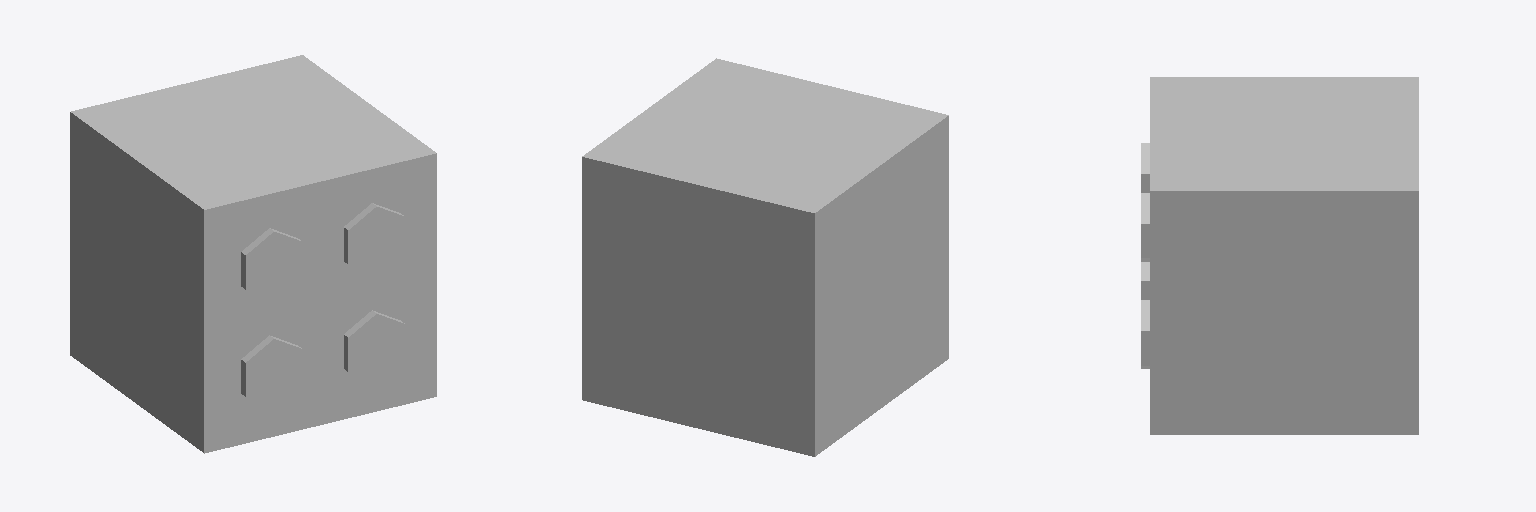
File: mego-brick-cube.obj
3 views of the same model, side by side, from view 1: azimuth 30°, elevation 25°; view 2: azimuth 150°, elevation 25°; view 3: azimuth 270°, elevation 25° (orthographic).
Visible parts, largest first — view 1: Cube.001; view 2: Cube.001; view 3: Cube.001.
Part boxes in pixels (bbox=[...]): Cube.001: bbox=[70, 55, 436, 453]; Cube.001: bbox=[582, 58, 948, 456]; Cube.001: bbox=[1141, 77, 1418, 434].
Bounding box in the file's own units: 1 × 1 × 1.04.